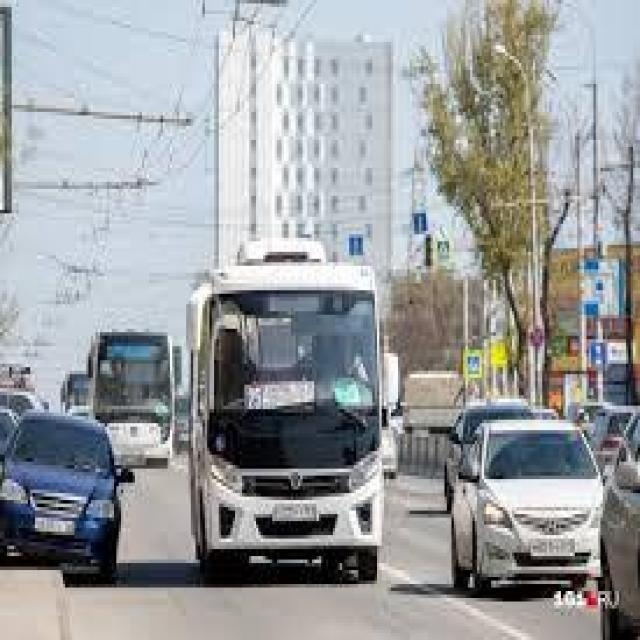Bus: (179, 231, 396, 598), (88, 318, 182, 479), (58, 364, 96, 426)
